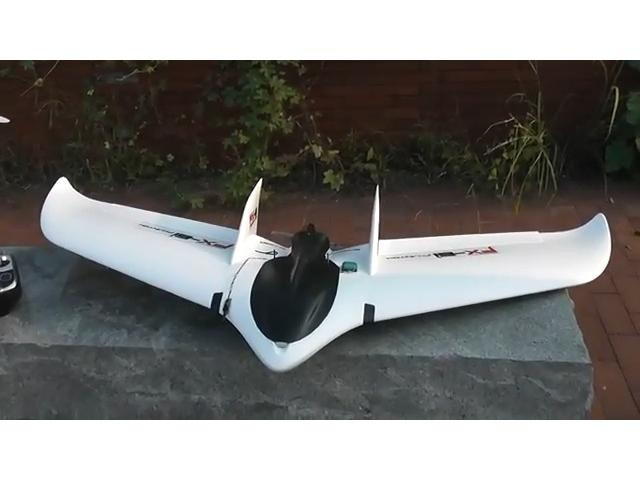Anti-Drone: (25, 154, 627, 394)
